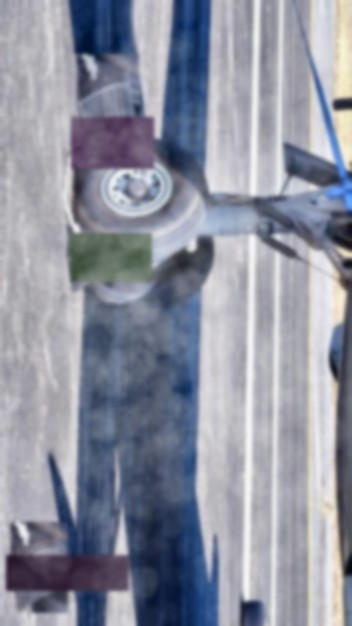chock: (74, 54, 140, 154), (8, 522, 68, 613), (65, 223, 112, 294), (70, 102, 112, 168)
wheel: (74, 139, 207, 258), (87, 236, 216, 316), (241, 601, 267, 626)
